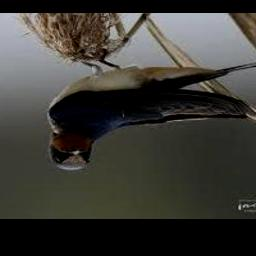Swallow: (46, 60, 256, 171)
